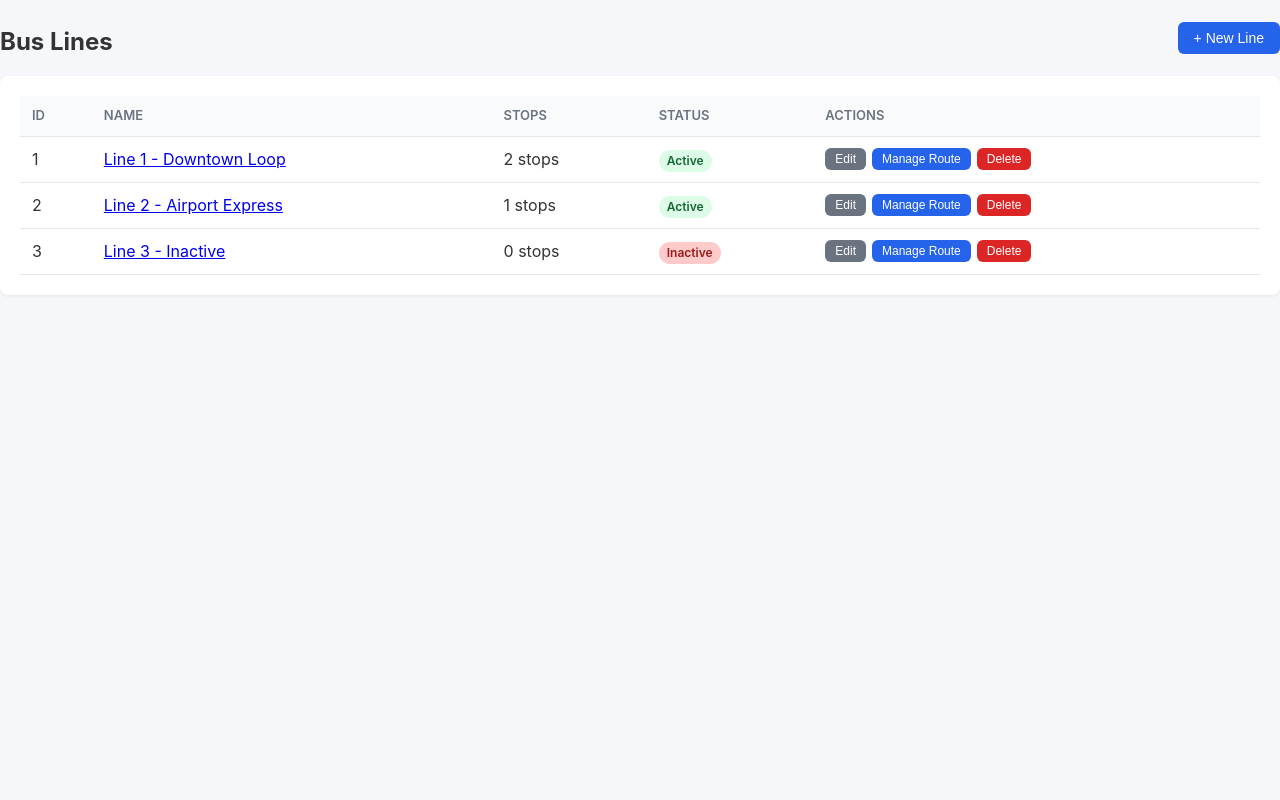
Test: BusLines Page › opens edit modal with pre-filled data when clicking Edit
Check: the link "Line 1 - Downtown Loop" is shown, box [104, 149, 286, 169]
Step 1. Click the button "Edit" in the row of "Line 1 - Downtown Loop" → (846,159), box [825, 148, 866, 170]
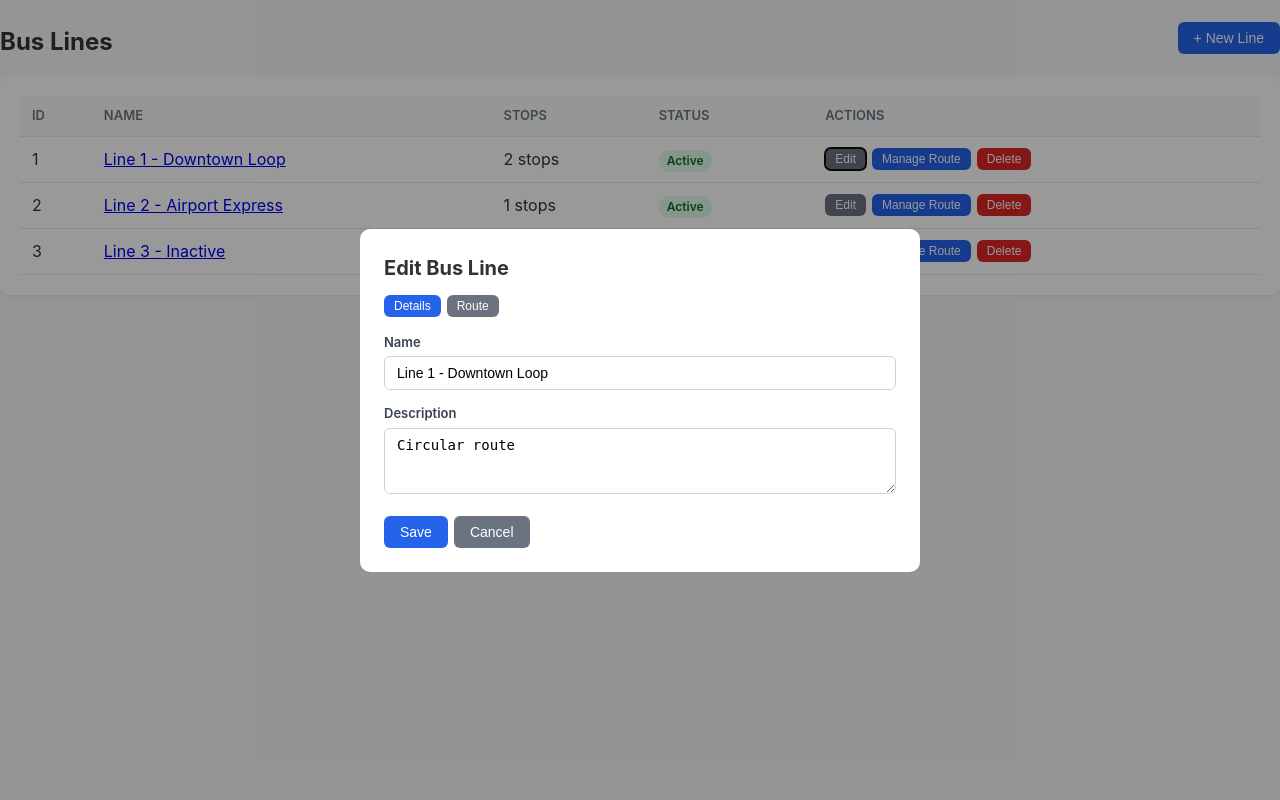
Check: the heading "Edit Bus Line" is shown, box [384, 256, 509, 280]
Check: the field showing "Line 1 - Downtown Loop" is shown, box [384, 356, 896, 390]
